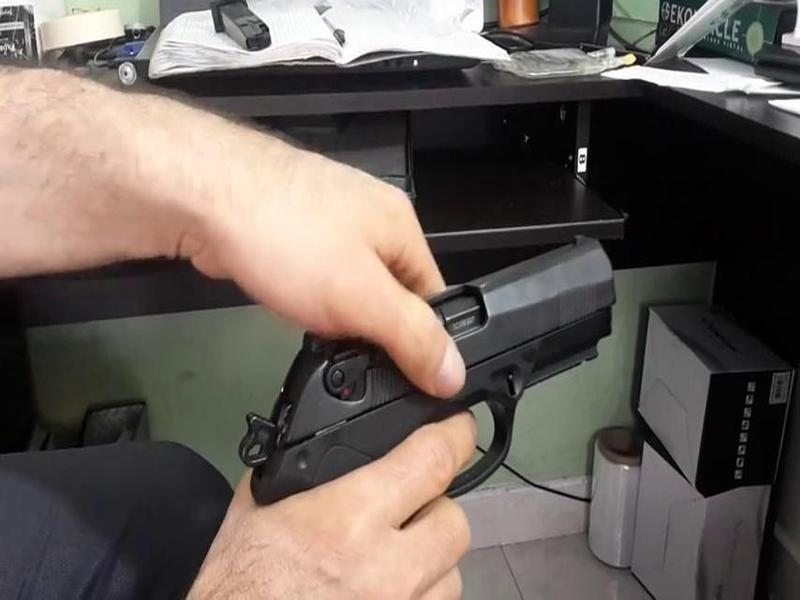Pistola: (210, 232, 620, 540)
